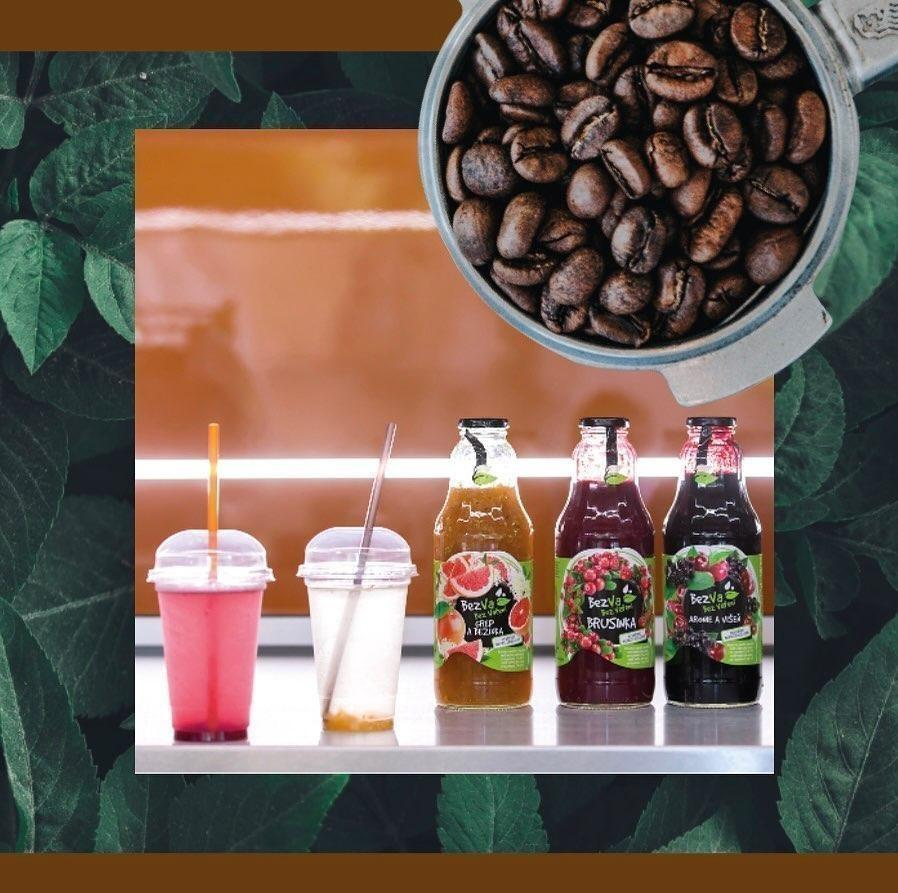bottle-glass: (424, 413, 540, 713)
cup-disposable: (149, 521, 270, 753), (299, 518, 417, 733)
